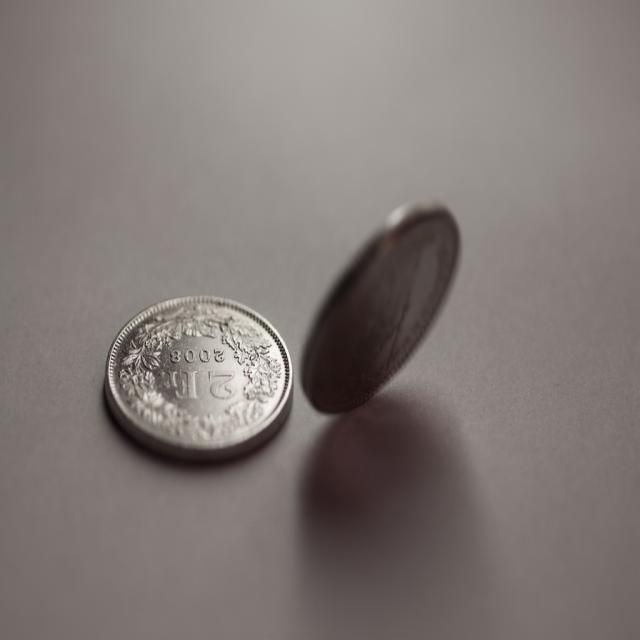Coin: (300, 199, 463, 416), (105, 300, 293, 458)
